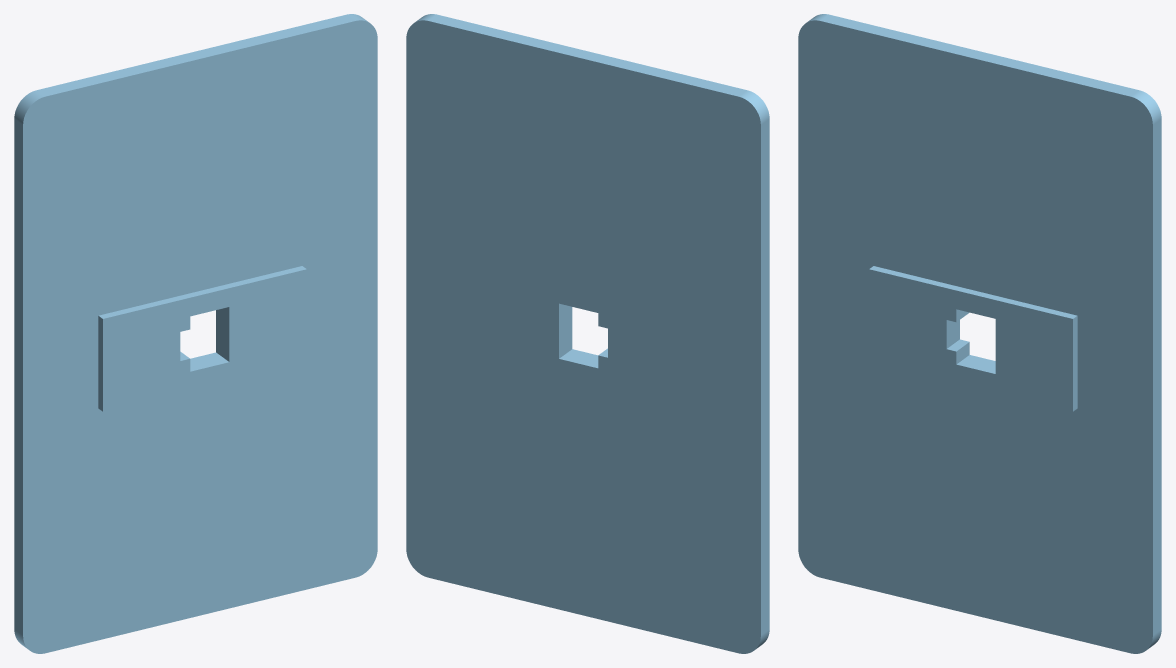
Rendered from rj45_plug.dae.
3 renders of one model, left to right at view 1: azimuth 30°, elevation 25°; view 2: azimuth 150°, elevation 25°; view 3: azimuth 330°, elevation 25°, orthographic.
Parts seen in each view (by area): view 1: ID2; view 2: ID2; view 3: ID2.
Boxes of the visible parts, <box> form: ID2: <box>14,14,377,653</box>; ID2: <box>406,14,769,653</box>; ID2: <box>798,14,1161,653</box>.
Bounding box in the file's own units: 0.08 × 0.0052 × 0.12.
